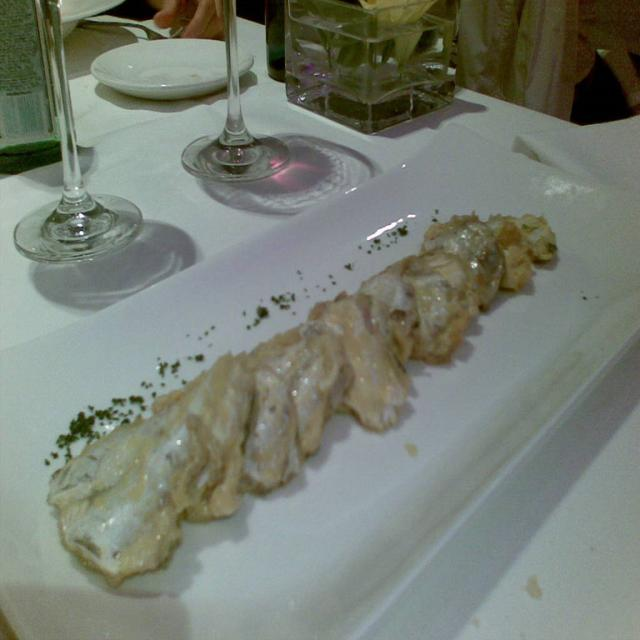non-organic waste: (93, 32, 254, 105)
